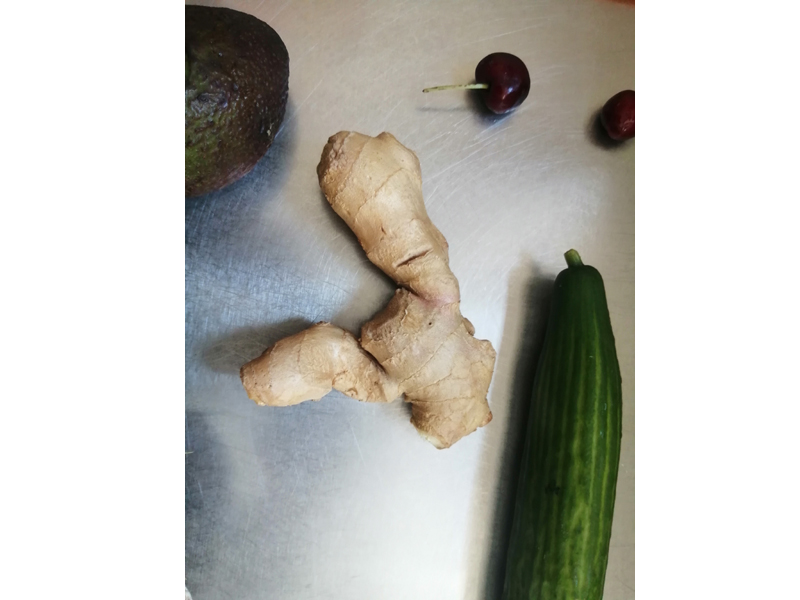cherry: (394, 34, 545, 124)
ginger: (263, 114, 495, 447)
